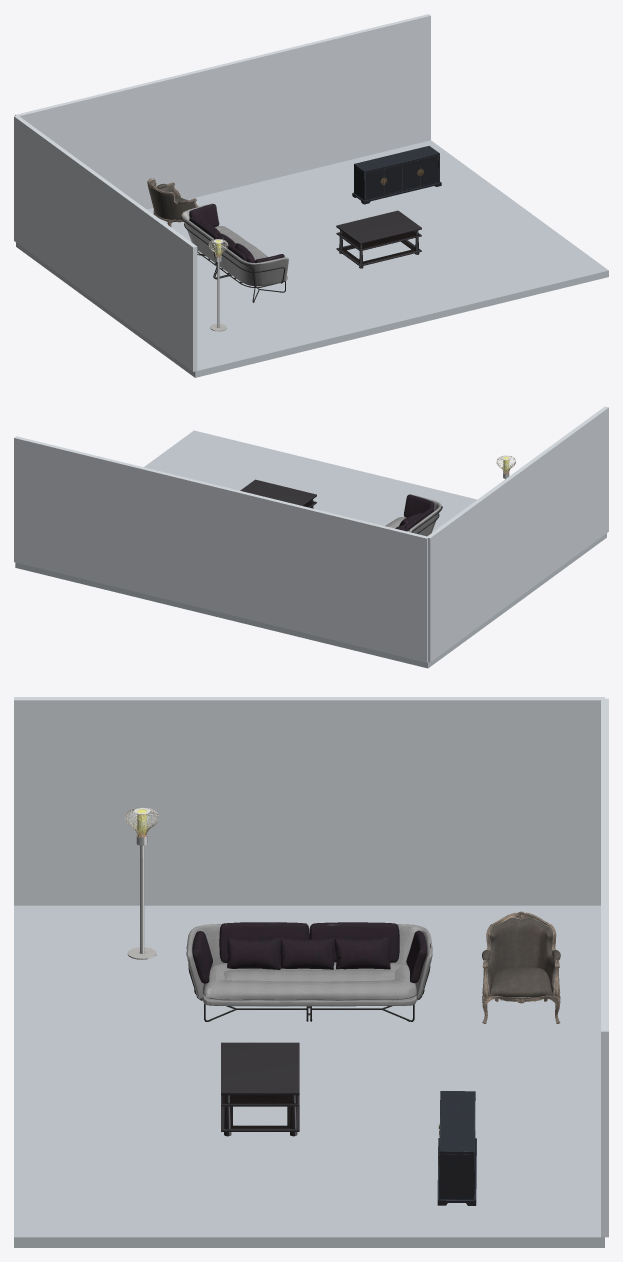
Rendered from stage2.glb.
The picture shows the model from 3 angles, top to bottom: view 1: azimuth 30°, elevation 25°; view 2: azimuth 150°, elevation 25°; view 3: azimuth 270°, elevation 25°; orthographic projection. The views are drawn at different scales.
Parts seen in each view (by area): view 1: Floor, wall_back, wall_left, raw_model, raw_model.002, raw_model.001, raw_model.003; view 2: wall_back, wall_left, Floor, raw_model, raw_model.001; view 3: Floor, wall_left, raw_model, raw_model.003, raw_model.001, raw_model.002, wall_back, solid_003.
Boxes of the visible parts, x1,y1,x2,y2 form: Floor: (16,140,608,377); wall_back: (15,14,430,209); wall_left: (14,116,197,371); raw_model: (181,203,288,302); raw_model.002: (352,146,441,204); raw_model.001: (336,210,421,268); raw_model.003: (147,178,198,226); wall_back: (14,436,428,662); wall_left: (427,406,608,662); Floor: (15,430,606,668); raw_model: (385,494,442,536); raw_model.001: (240,479,316,508); Floor: (14,905,604,1247); wall_left: (14,697,604,905); raw_model: (186,922,432,1021); raw_model.003: (482,911,560,1023); raw_model.001: (221,1042,299,1136); raw_model.002: (437,1091,476,1205); wall_back: (601,698,608,1237); solid_003: (127,835,156,959).
Size of the model in its own units: 8.04 by 2.42 by 6.04.
Materials: 7 (5 with a texture image).
